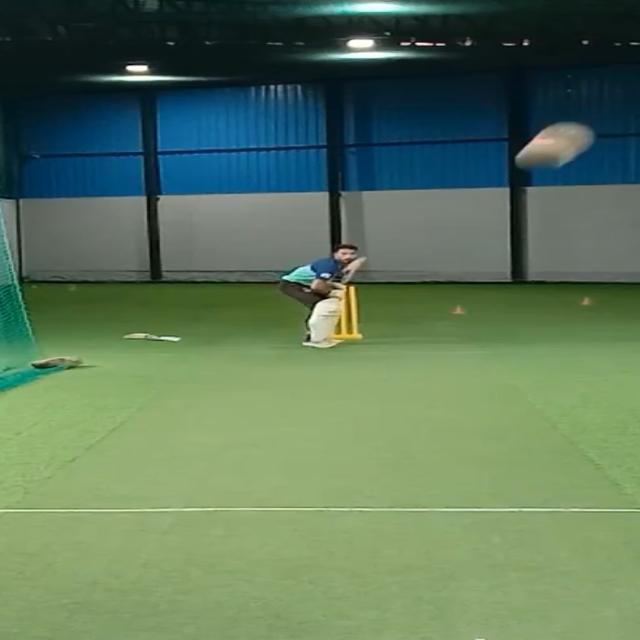ball: (510, 136, 572, 174)
stump: (328, 282, 365, 339)
